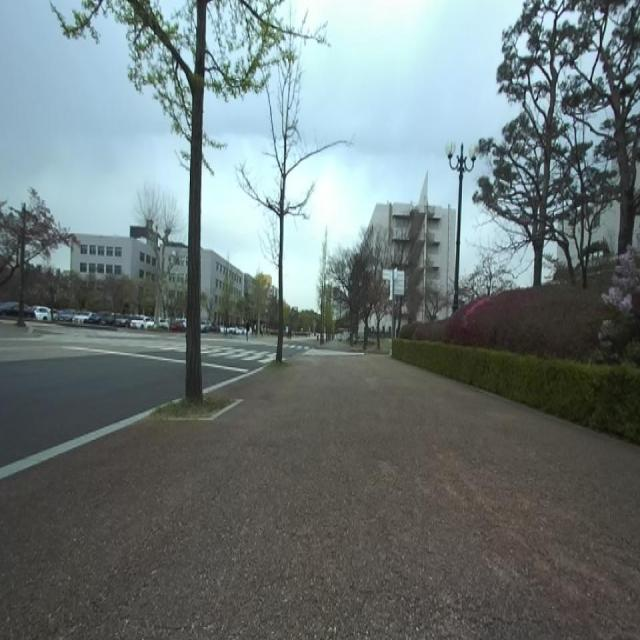sidewalk: (0, 355, 640, 639), (0, 410, 152, 480)
